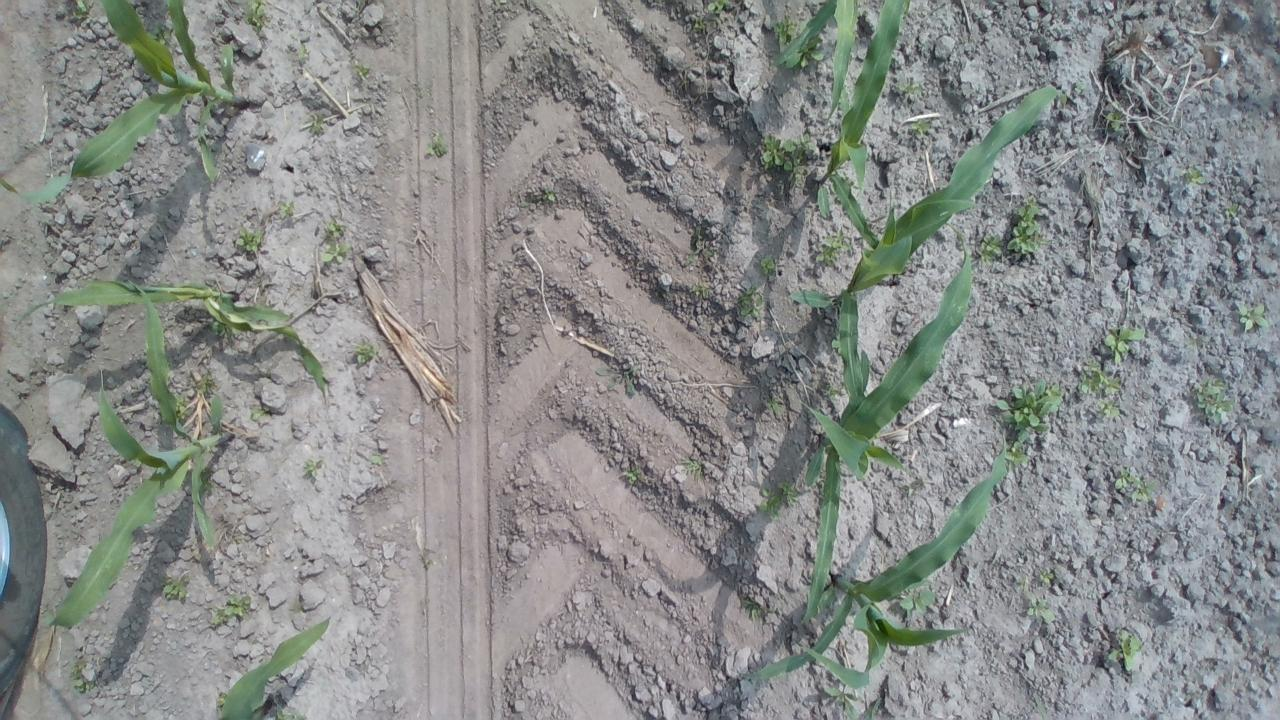Maize: (788, 86, 1067, 412), (741, 432, 1006, 692), (801, 221, 970, 627), (44, 278, 236, 630), (1, 0, 262, 208), (13, 276, 324, 396), (814, 0, 912, 248), (218, 615, 332, 720), (771, 0, 860, 125)
Weeds: (994, 376, 1067, 437), (761, 129, 818, 186), (1006, 192, 1048, 256), (1192, 374, 1236, 424), (1102, 322, 1148, 368), (1108, 624, 1150, 674), (1079, 354, 1124, 398), (592, 364, 646, 398), (1112, 464, 1158, 502), (679, 226, 718, 270), (814, 226, 851, 266), (896, 588, 941, 620), (786, 36, 824, 70), (824, 684, 858, 720), (1025, 590, 1058, 624), (736, 286, 768, 321), (1237, 301, 1271, 332), (974, 234, 1002, 270), (160, 572, 194, 601), (757, 485, 783, 522), (350, 336, 379, 366), (274, 696, 308, 720), (70, 660, 94, 694), (234, 226, 268, 250), (740, 593, 764, 623), (223, 592, 253, 616), (1106, 99, 1127, 133), (318, 241, 352, 262), (244, 0, 266, 31), (320, 212, 346, 238), (424, 132, 450, 158), (772, 18, 796, 46), (681, 456, 702, 486), (860, 694, 884, 720), (1006, 441, 1030, 466), (195, 369, 218, 394), (1186, 163, 1208, 189), (900, 478, 926, 498), (1098, 398, 1122, 419), (778, 480, 798, 505), (68, 0, 93, 20), (692, 280, 716, 300), (308, 110, 326, 136), (152, 23, 172, 46), (301, 459, 325, 478), (896, 81, 924, 96), (912, 118, 934, 137), (760, 254, 777, 278), (249, 406, 272, 423), (705, 0, 730, 15), (211, 606, 230, 625), (1224, 200, 1241, 221), (821, 379, 842, 396), (764, 396, 784, 413), (534, 188, 557, 201), (353, 61, 371, 77), (621, 469, 638, 485), (1039, 566, 1055, 583), (278, 199, 294, 216), (1185, 334, 1204, 348), (212, 321, 231, 335), (296, 40, 308, 62), (1017, 574, 1031, 592), (176, 395, 186, 420), (830, 334, 841, 356), (292, 595, 304, 614), (692, 17, 708, 31), (216, 690, 227, 708), (424, 556, 438, 570), (1074, 80, 1086, 95), (370, 454, 384, 465), (232, 536, 245, 546), (417, 84, 425, 98), (520, 200, 531, 209)
